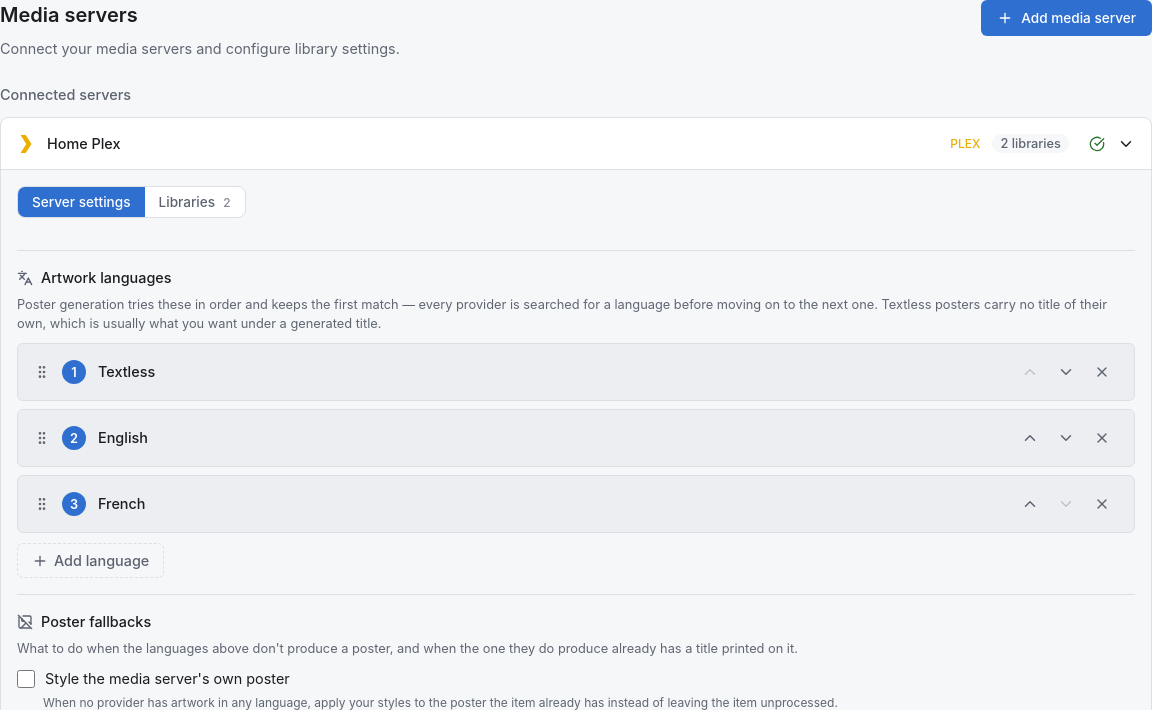
MediaServersSettings artwork languages › keeps the card unsaved and says why when the language save fails
The width and height of the screenshot is (1152, 710).
Click the button "Server settings" at (81, 202), box [18, 187, 144, 217]
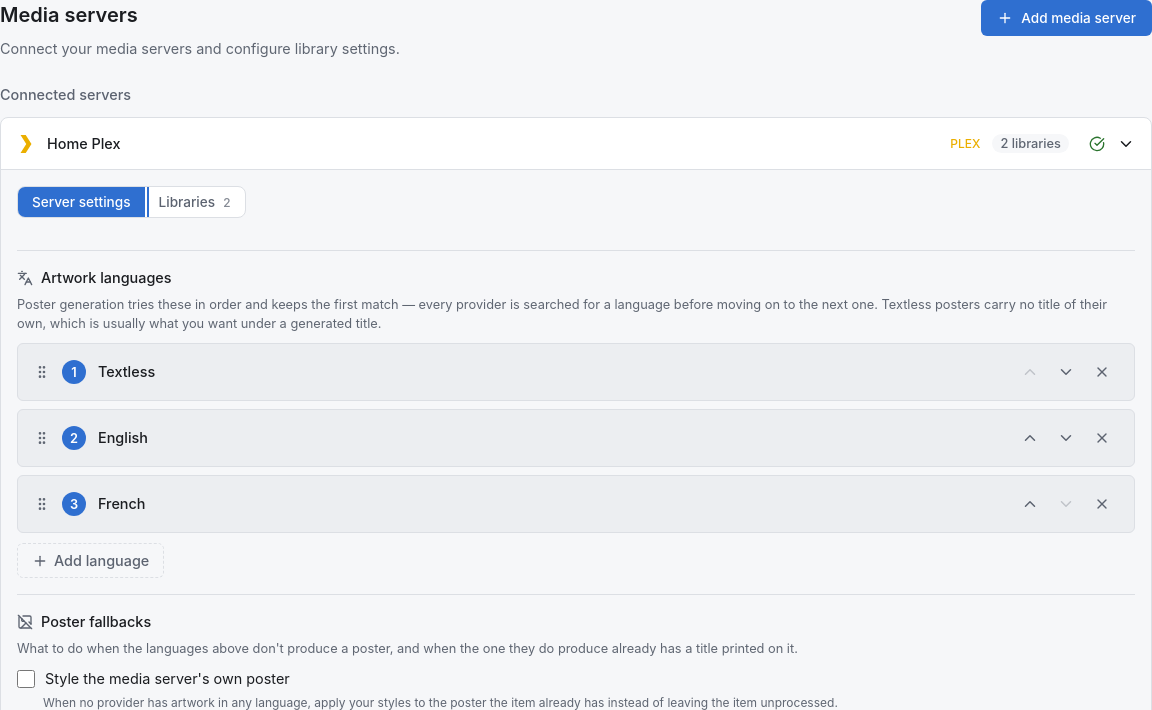
Click the button named "Move English up" at (1030, 438), box [1014, 422, 1046, 454]
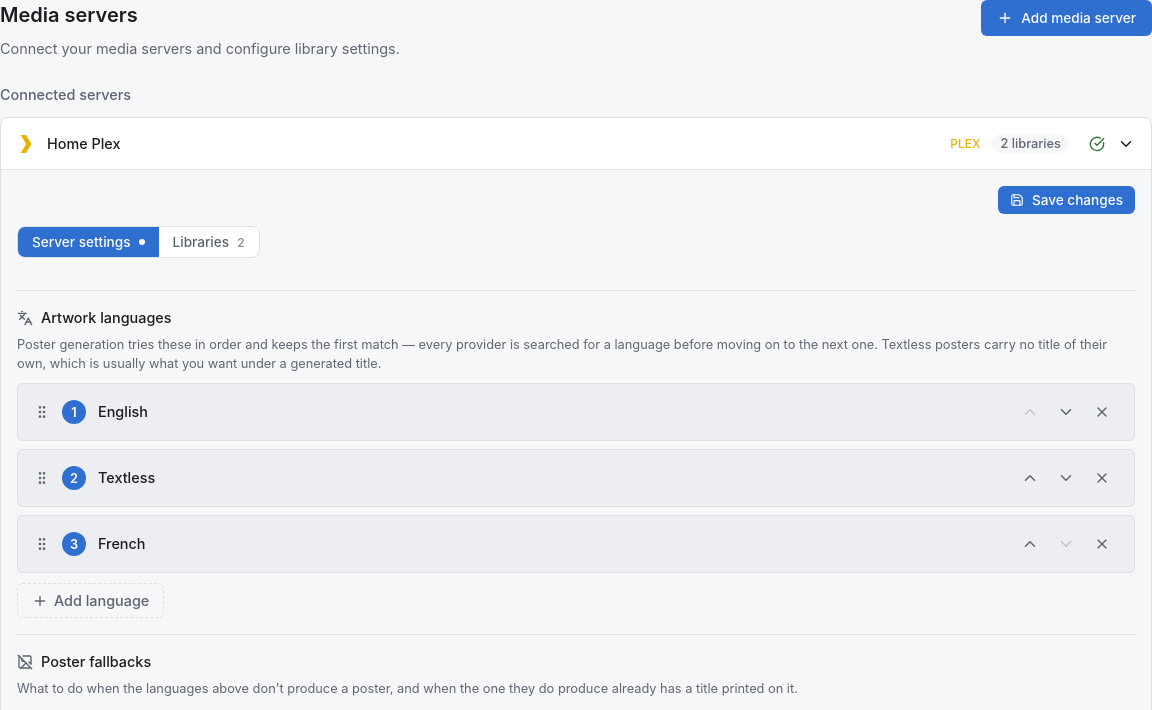
Click the button "Save changes" at (1066, 200), box [998, 186, 1135, 214]
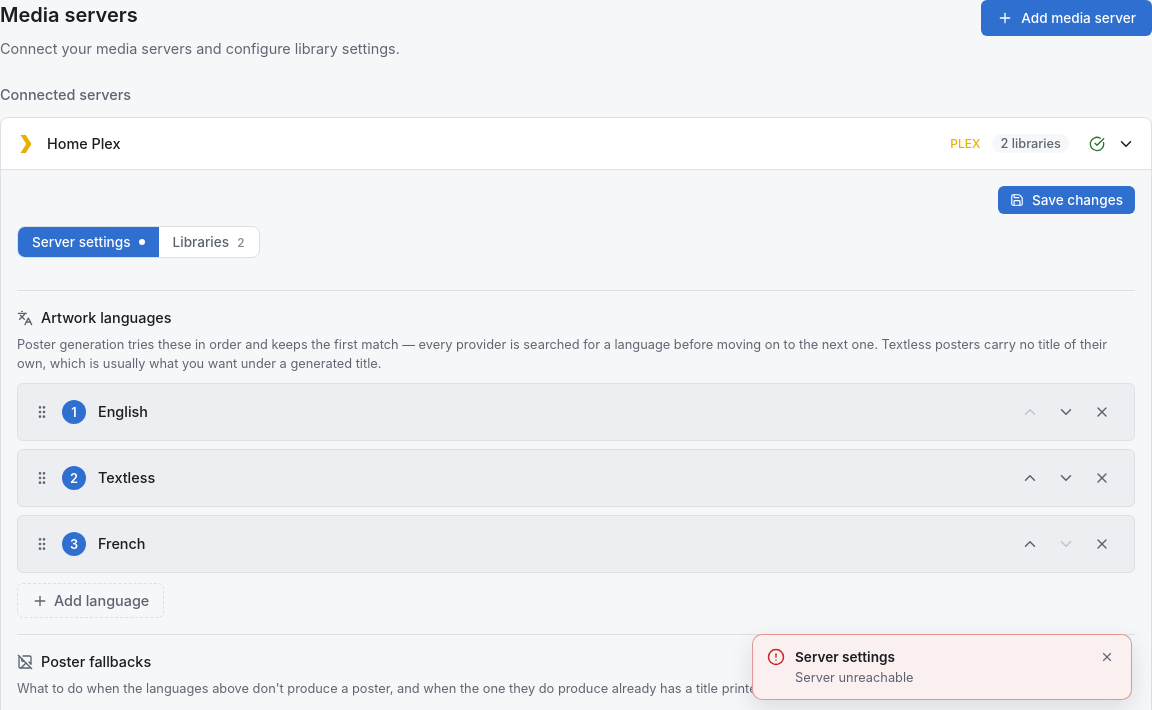
Result: the button "Save changes" is shown at [998, 186, 1135, 214]
Result: the message shows "Server unreachable" at [795, 670, 914, 685]
